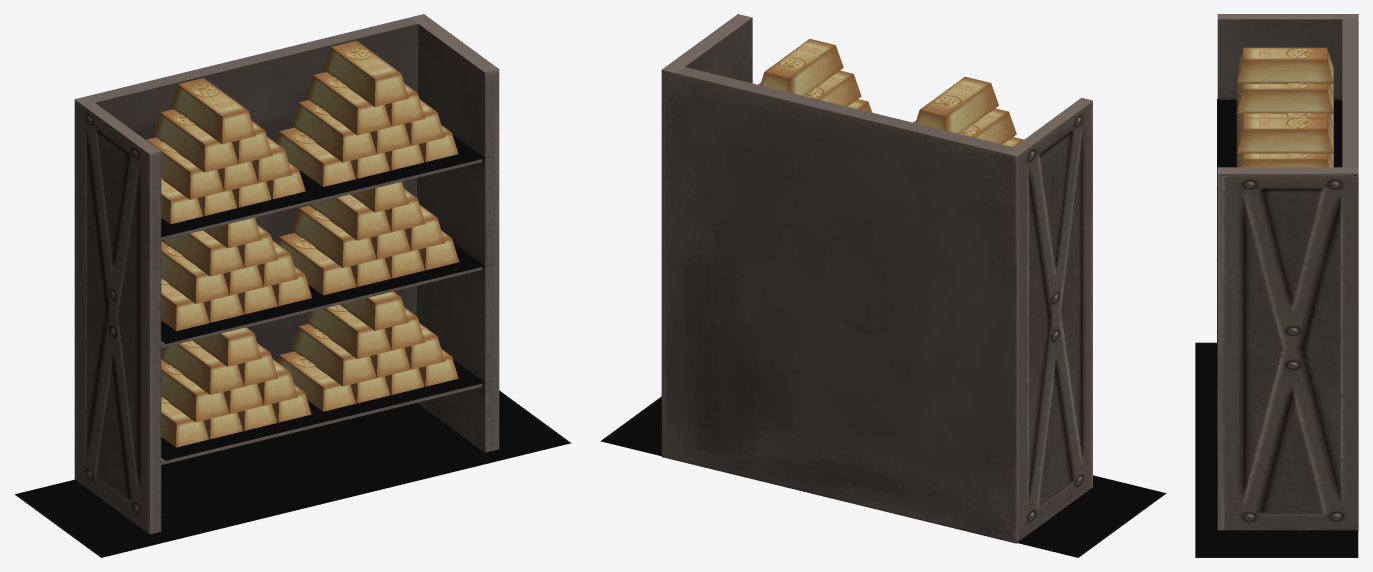
The model's file is shelf_2.fbx.
3 renders of one model, left to right at view 1: azimuth 30°, elevation 25°; view 2: azimuth 150°, elevation 25°; view 3: azimuth 270°, elevation 25°, orthographic. The views are drawn at different scales.
Visible parts, largest first — view 1: GoldBarStack, polySurface2, shadow, goldbar_shadow, polySurface5, polySurface6, polySurface4; view 2: polySurface2, GoldBarStack, shadow; view 3: polySurface2, GoldBarStack, shadow, goldbar_shadow.
Boxes of the visible parts, x1,y1,x2,y2 form: GoldBarStack: (146,40,458,447); polySurface2: (74,14,499,534); shadow: (15,390,571,557); goldbar_shadow: (160,135,492,460); polySurface5: (161,383,481,464); polySurface6: (161,159,481,240); polySurface4: (161,267,481,347); polySurface2: (661,14,1092,543); GoldBarStack: (758,39,1023,146); shadow: (600,396,1166,557); polySurface2: (1217,14,1358,530); GoldBarStack: (1236,47,1333,167); shadow: (1195,342,1358,557); goldbar_shadow: (1217,98,1342,461).
Size of what is drawn, in the model's own units: 18.11 by 14.25 by 5.81.
Materials: 6 (6 with a texture image).
